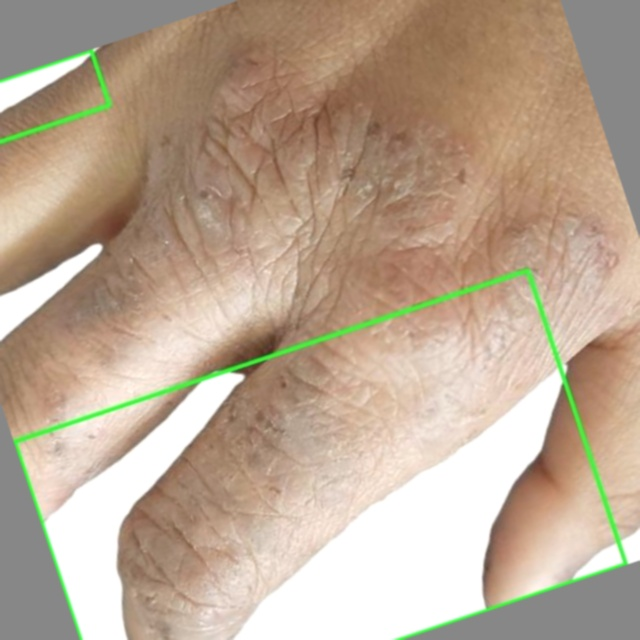Eczema: (14, 270, 625, 639)
